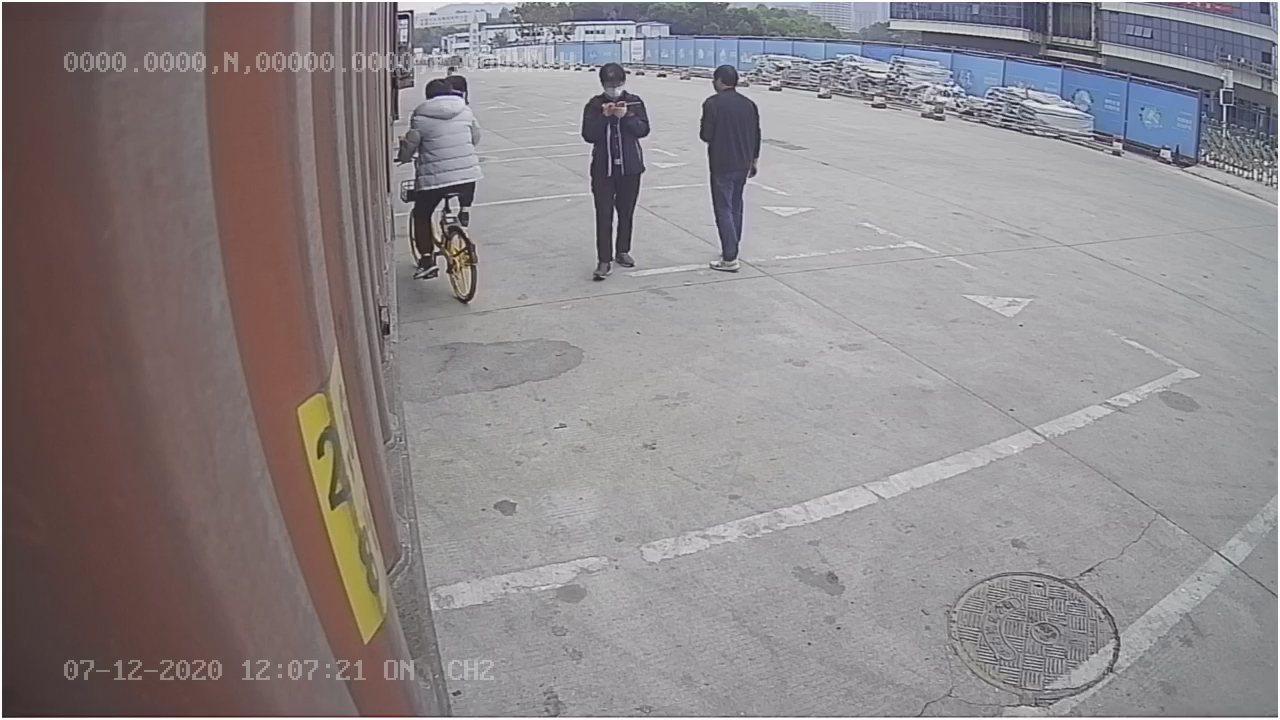person: (577, 60, 654, 284), (695, 62, 763, 277)
